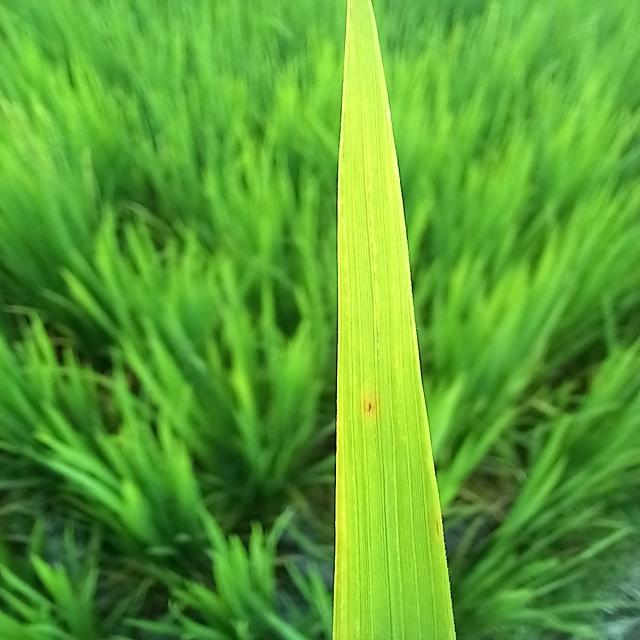Brown_Spot: (362, 392, 380, 424)
